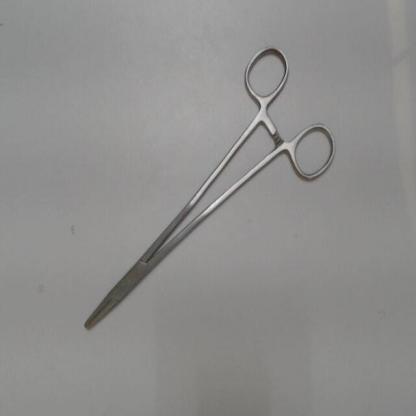8 Mayo Needle Holder: (77, 37, 346, 340)
